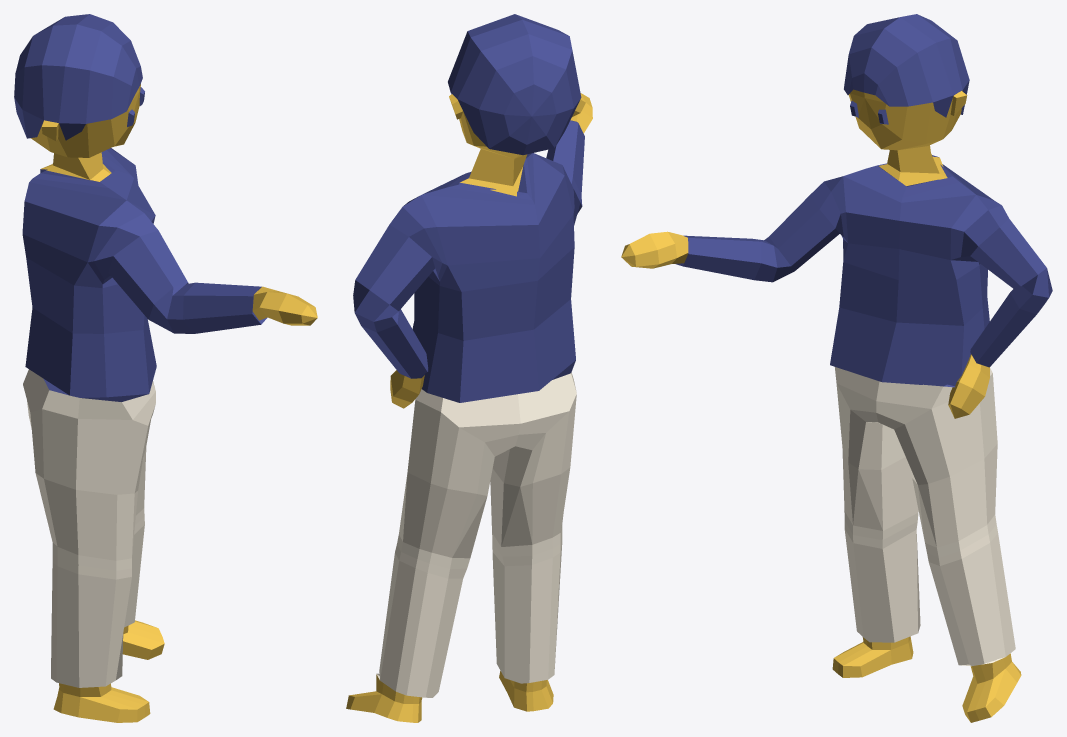
The model's file is 104_お話(Man).glb.
3 views of the same model, side by side, from view 1: azimuth 30°, elevation 25°; view 2: azimuth 150°, elevation 25°; view 3: azimuth 270°, elevation 25° (orthographic). The views are drawn at different scales.
Parts seen in each view (by area): view 1: 立方体041_3, 立方体041_2, 立方体041, 立方体041_1; view 2: 立方体041_2, 立方体041_3, 立方体041, 立方体041_1; view 3: 立方体041_3, 立方体041_2, 立方体041_1, 立方体041.
Part boxes in pixels (bbox=[...]): 立方体041_3: bbox=[22, 148, 267, 401]; 立方体041_2: bbox=[23, 369, 155, 687]; 立方体041: bbox=[14, 14, 144, 140]; 立方体041_1: bbox=[31, 84, 317, 722]; 立方体041_2: bbox=[376, 372, 576, 697]; 立方体041_3: bbox=[353, 120, 584, 402]; 立方体041: bbox=[448, 14, 581, 155]; 立方体041_1: bbox=[346, 93, 592, 722]; 立方体041_3: bbox=[676, 155, 1052, 387]; 立方体041_2: bbox=[835, 367, 1015, 666]; 立方体041_1: bbox=[621, 89, 1021, 722]; 立方体041: bbox=[844, 14, 969, 124].
Size of the model in its own units: 0.5709 by 2.08 by 1.25.
